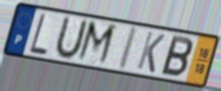B: (158, 34, 194, 80)
I: (115, 24, 140, 73)
K: (135, 30, 167, 75)
L: (28, 12, 49, 58)
M: (75, 18, 119, 68)
U: (52, 14, 90, 61)
